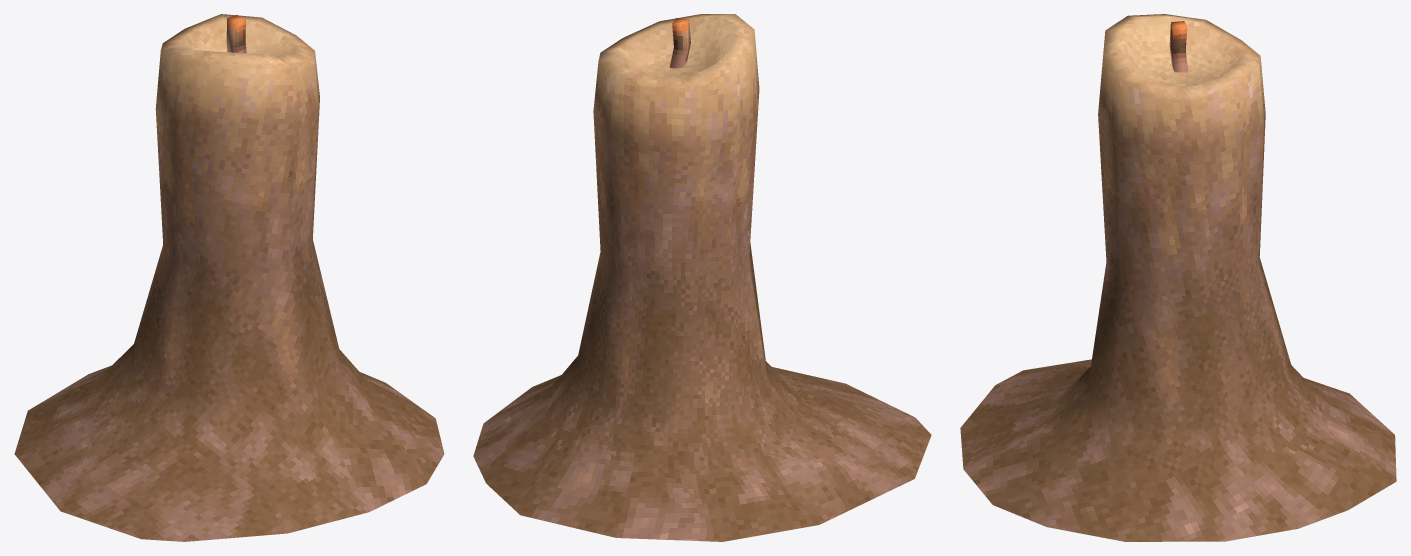
The model's file is candle_stage2.glb.
3 views of the same model, side by side, from view 1: azimuth 30°, elevation 25°; view 2: azimuth 150°, elevation 25°; view 3: azimuth 270°, elevation 25° (orthographic). The views are drawn at different scales.
Visible parts, largest first — view 1: candle_stage2; view 2: candle_stage2; view 3: candle_stage2.
Part boxes in pixels (x1,y1,x2,y2): candle_stage2: (14, 14, 444, 541); candle_stage2: (473, 14, 931, 541); candle_stage2: (960, 14, 1396, 541).
Bounding box in the file's own units: 0.2897 × 0.3107 × 0.2847.
1 material, 1 textured.
